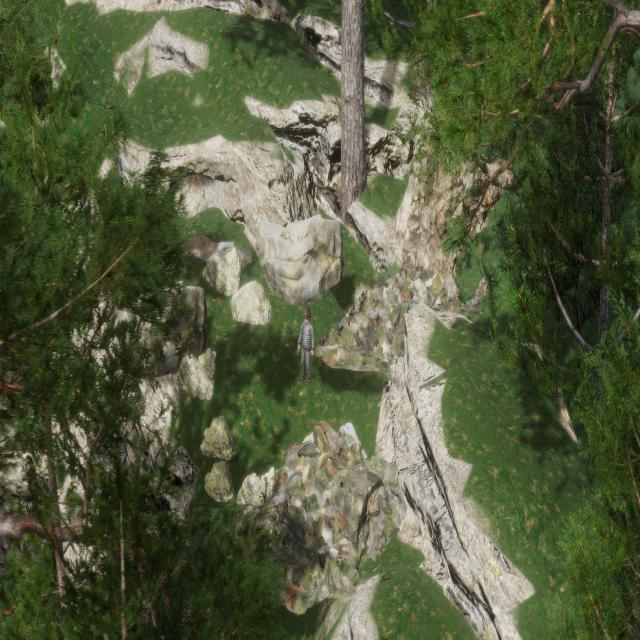Human: (296, 300, 316, 385)
